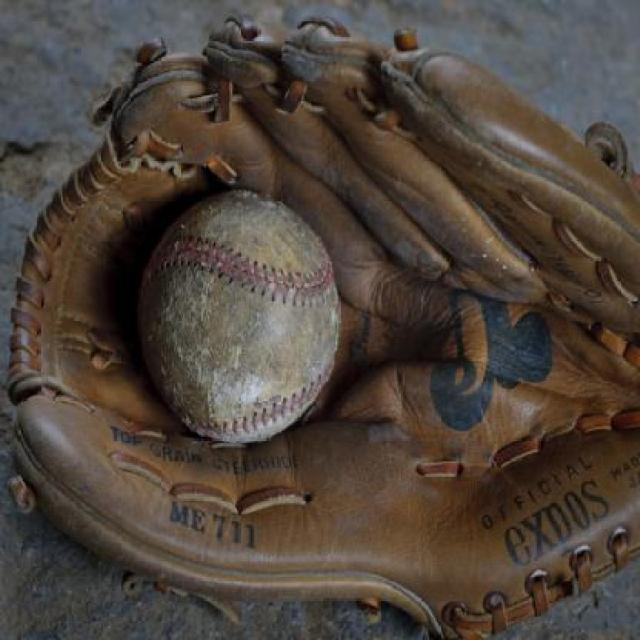-: (151, 163, 334, 466)
